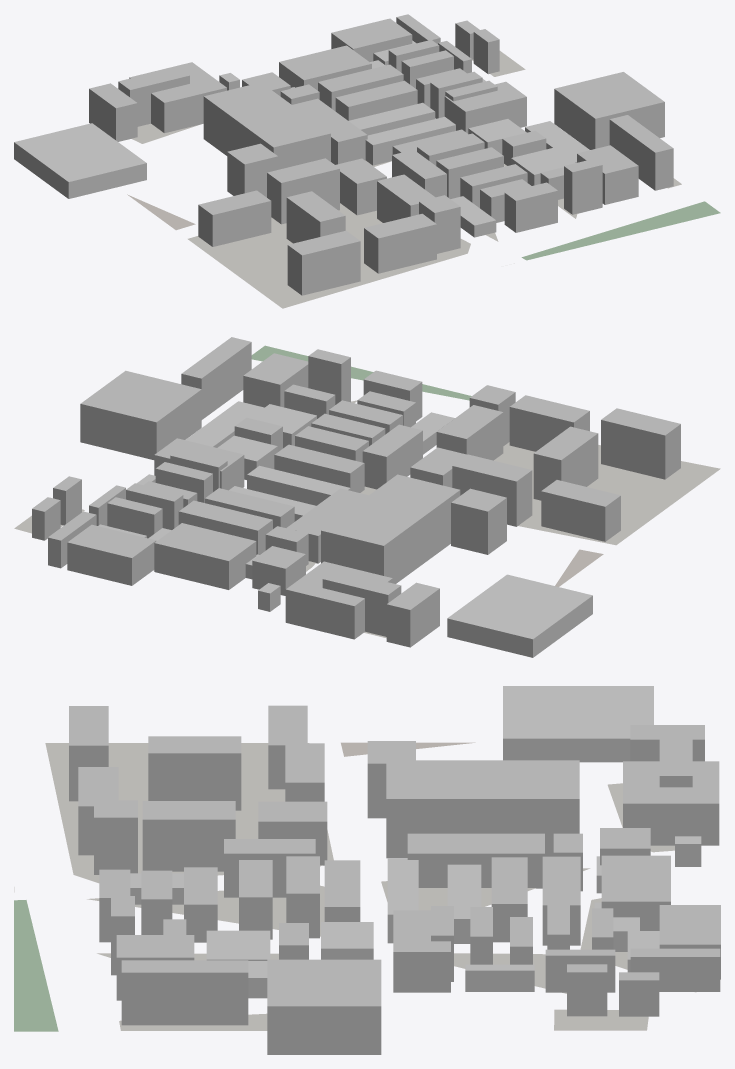
File: 120_112_mid.glb
3 views of the same model, one above another, from view 1: azimuth 30°, elevation 25°; view 2: azimuth 150°, elevation 25°; view 3: azimuth 270°, elevation 25° (orthographic). The views are drawn at different scales.
Bounding box in the file's own units: 598 × 48.67 × 518.
